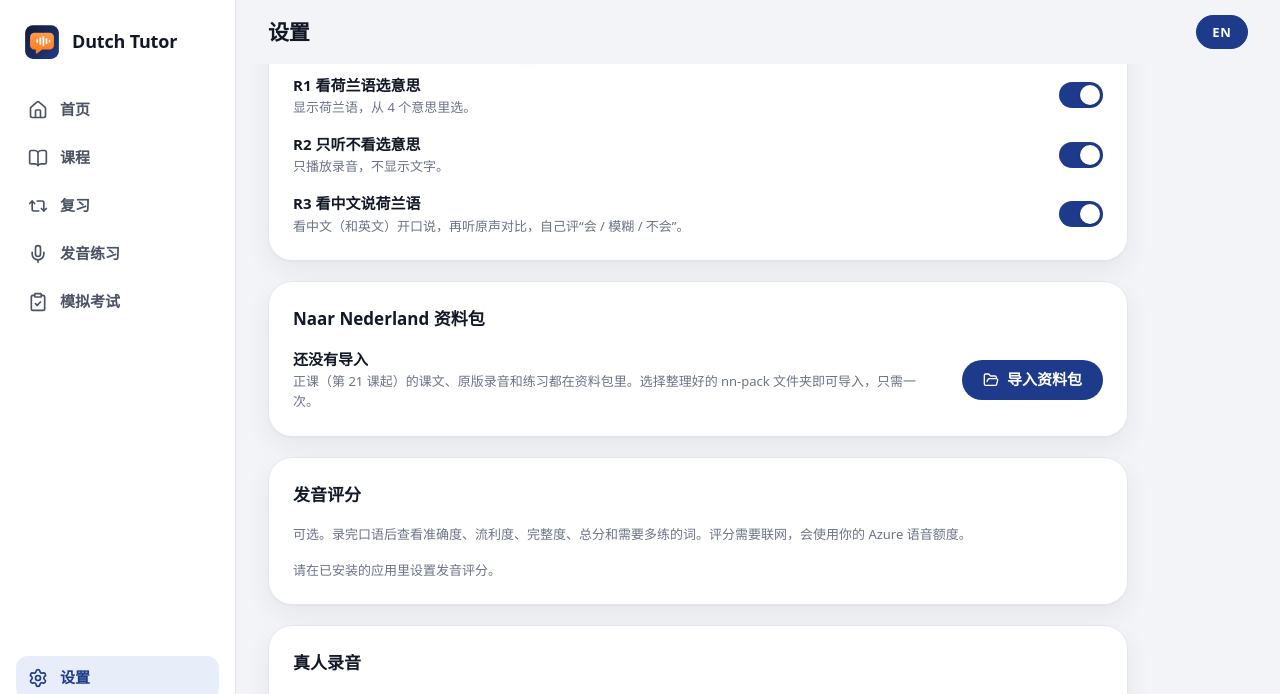
it: 资料包 settings › without a pack: explains and imports the picked folder
(page scrolled)
Expected: the text "还没有导入" is shown, [293,349,368,369]
Click the button "导入资料包": coordinates (1032, 380) [962,360,1103,400]
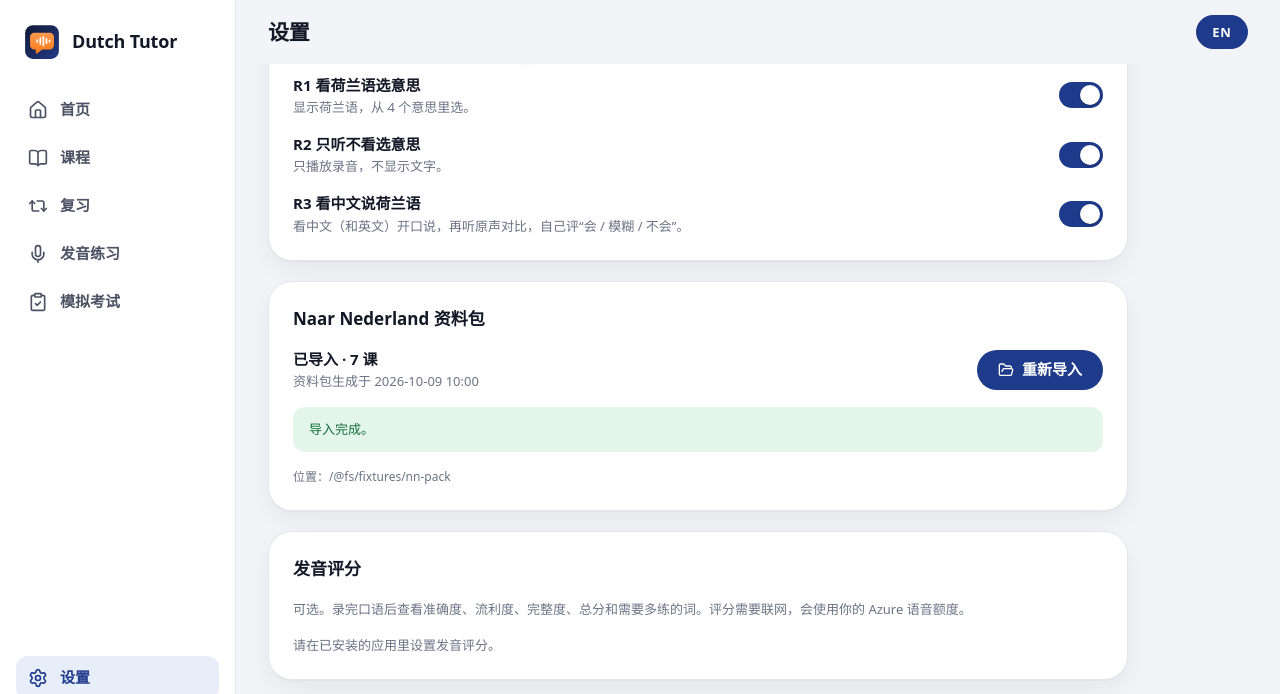
Now the text "已导入 · 7 课" is shown, box [293,349,378,369]
Now the text "导入完成。" is shown, box [293,407,1103,452]
